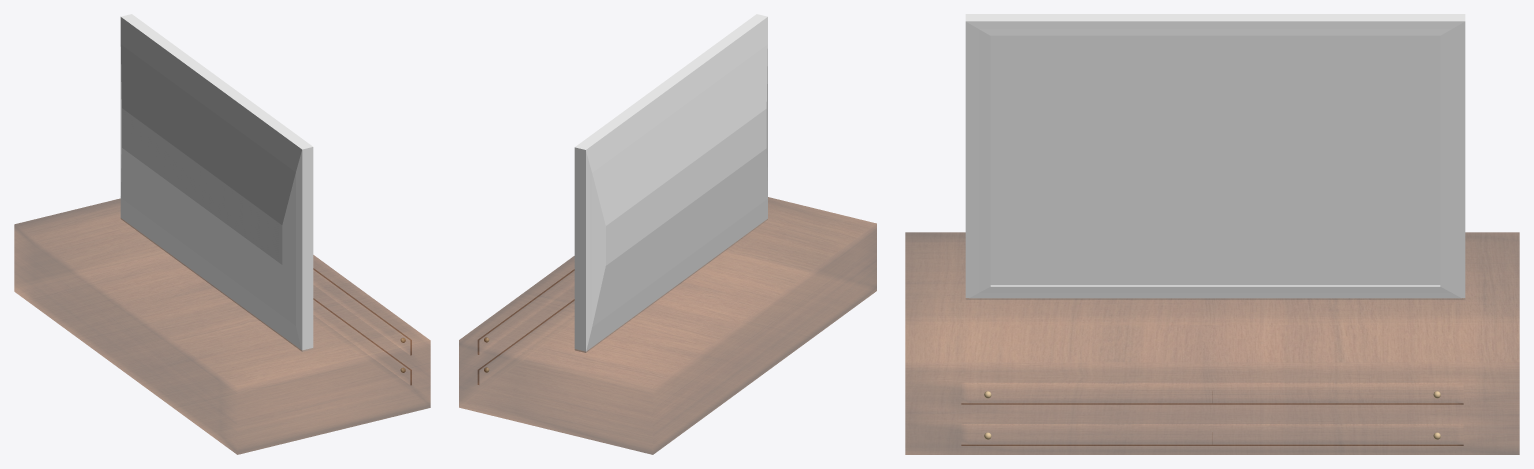
The model's file is thetv.glb.
3 renders of one model, left to right at view 1: azimuth 30°, elevation 25°; view 2: azimuth 150°, elevation 25°; view 3: azimuth 270°, elevation 25°, orthographic. The views are drawn at different scales.
Parts seen in each view (by area): view 1: Icosphere; view 2: Icosphere; view 3: Icosphere.
Boxes of the visible parts, x1,y1,x2,y2 form: Icosphere: (14,14,430,454); Icosphere: (459,14,876,454); Icosphere: (905,14,1519,454).
Size of the model in its own units: 3.07 by 3.98 by 6.
4 materials, 1 textured.
